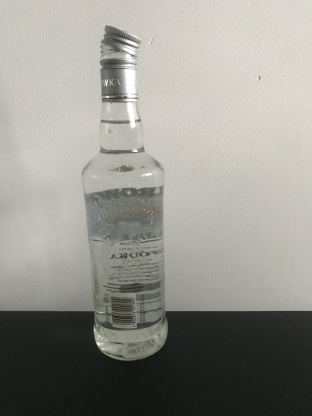nakretka: (98, 22, 142, 103)
